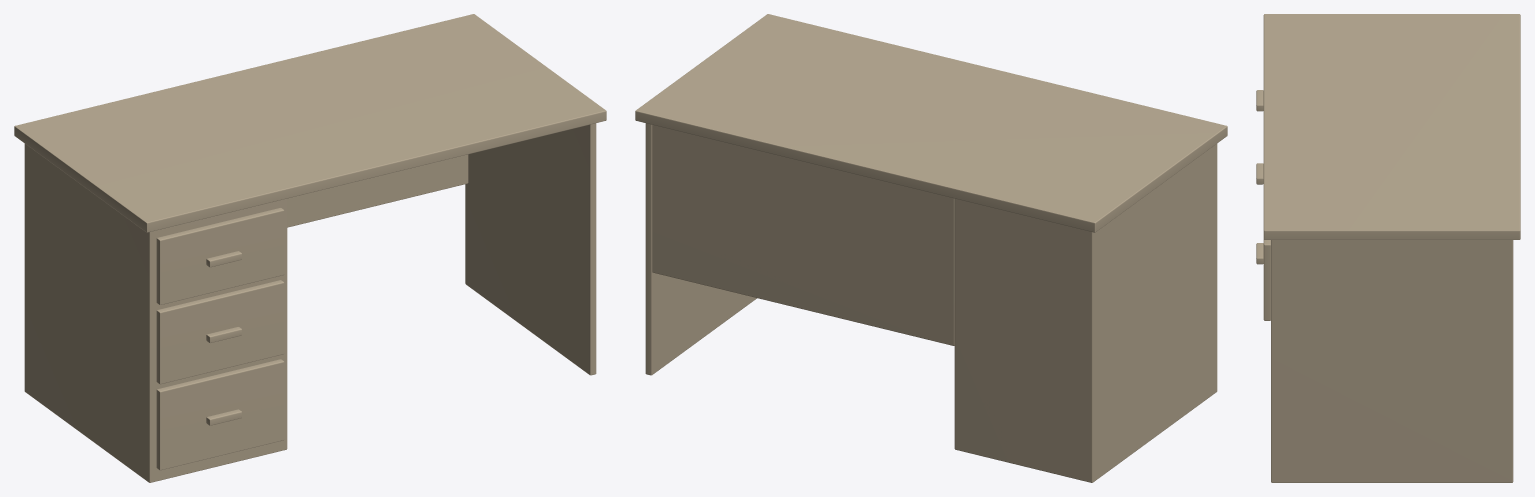
Rendered from teacher-desk.glb.
The picture shows the model from 3 angles, left to right: view 1: azimuth 30°, elevation 25°; view 2: azimuth 150°, elevation 25°; view 3: azimuth 270°, elevation 25°; orthographic projection. The views are drawn at different scales.
Parts seen in each view (by area): view 1: teacher-desk; view 2: teacher-desk; view 3: teacher-desk.
Part boxes in pixels (x1,y1,x2,y2): teacher-desk: (14, 14, 606, 482); teacher-desk: (635, 14, 1227, 482); teacher-desk: (1256, 14, 1520, 482).
Bounding box in the file's own units: 1.4 × 0.77 × 0.72.
